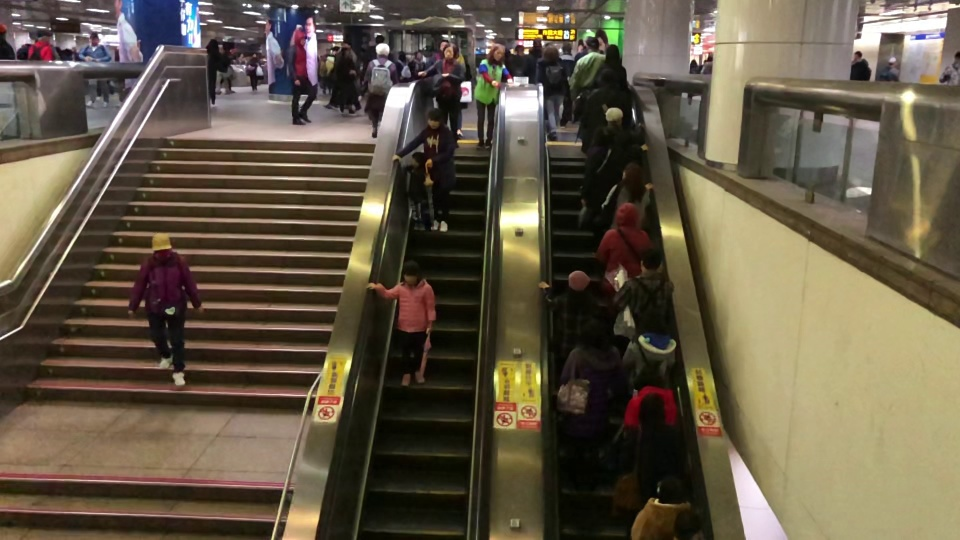person_head: (633, 308, 672, 339), (631, 363, 666, 394), (636, 393, 666, 427), (655, 473, 684, 501), (612, 202, 640, 230), (581, 321, 607, 351), (639, 247, 663, 275), (566, 270, 591, 295), (620, 162, 643, 186), (150, 230, 172, 253), (401, 260, 421, 285), (594, 127, 614, 149), (603, 105, 623, 125), (600, 67, 618, 89), (426, 106, 443, 128), (604, 43, 621, 64), (489, 42, 505, 64), (409, 149, 426, 167), (443, 43, 460, 60), (542, 44, 560, 59), (586, 35, 599, 53), (295, 30, 307, 46), (886, 56, 898, 70), (206, 39, 218, 51), (36, 30, 49, 41), (377, 44, 388, 57), (89, 31, 99, 45), (562, 41, 572, 55), (340, 45, 351, 57), (531, 37, 542, 49), (514, 43, 524, 56), (853, 50, 863, 61), (398, 50, 407, 62), (0, 23, 6, 39), (706, 51, 714, 61), (689, 57, 697, 66), (416, 51, 422, 62), (954, 50, 960, 60), (252, 53, 255, 57)
person_vbox: (127, 230, 204, 390), (560, 321, 622, 494), (608, 393, 685, 524), (580, 126, 649, 257), (367, 260, 437, 388), (391, 107, 456, 234), (611, 247, 677, 341), (594, 201, 654, 297), (417, 44, 466, 148), (620, 307, 677, 391), (537, 270, 592, 351), (580, 68, 632, 152), (473, 42, 511, 151), (631, 474, 693, 539), (623, 361, 679, 432), (362, 43, 399, 138), (601, 163, 654, 227), (390, 148, 427, 234), (285, 28, 317, 126), (536, 44, 567, 143), (78, 31, 113, 107), (587, 106, 645, 150), (568, 35, 607, 97), (335, 43, 358, 114), (206, 41, 229, 106), (595, 44, 628, 87), (560, 42, 573, 128), (28, 30, 53, 62), (524, 37, 542, 81), (850, 49, 873, 80), (940, 50, 960, 83), (877, 55, 901, 81), (0, 23, 16, 60), (510, 44, 529, 75), (246, 52, 260, 93), (688, 57, 699, 105), (397, 51, 411, 80), (699, 51, 715, 75), (410, 51, 424, 77)
